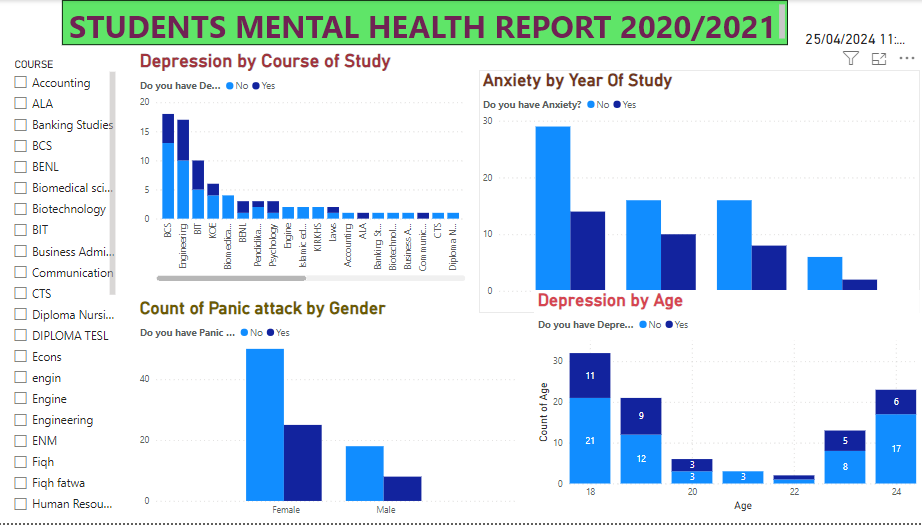

The page's visual inventory and layout, read from the dashboard file:
{"tool":"powerbi","page":{"name":"Duplicate of Page 1","canvas":[1280,720],"ordinal":1},"visuals":[{"type":"textbox","box":[89,0,999.5,62.2],"z":0},{"type":"columnChart","title":"Depression by Course  of Study","fields":{"Category":["Student Mental health.What is your course?"],"Y":["CountNonNull(Student Mental health.Do you have Depression?)"],"Series":["Student Mental health.Do you have Depression?"]},"box":[191.3,68.8,458.3,323.4],"z":1000},{"type":"clusteredColumnChart","title":"Count of Panic attack by Gender","fields":{"Category":["Student Mental health.Choose your gender"],"Y":["CountNonNull(Student Mental health.Do you have Panic attack?)"],"Series":["Student Mental health.Do you have Panic attack?"]},"box":[191.3,410.2,527.1,309.7],"z":2000},{"type":"clusteredColumnChart","title":"Anxiety by Year Of Study","fields":{"Category":["Student Mental health.Your current year of Study"],"Series":["Student Mental health.Do you have Anxiety?"],"Y":["CountNonNull(Student Mental health.Do you have Anxiety?)"]},"box":[663.4,96.3,607,334.5],"z":3000},{"type":"columnChart","title":"Depression by Age","fields":{"Category":["Student Mental health.Age"],"Y":["CountNonNull(Student Mental health.Age)"],"Series":["Student Mental health.Do you have Depression?"]},"box":[739.1,399.1,531.3,309.7],"z":4000},{"type":"slicer","fields":{"Values":["Student Mental health.What is your course?"]},"box":[11,75.7,156.9,633.1],"z":5000},{"type":"card","fields":{"Values":["Min(Refreshed Date.Column1)"]},"box":[1102.5,38.5,156.9,30.3],"z":5001}]}

Visuals, with their boxes on the page's 1280x720 design canvas (x1, y1, x2, y2). These are canvas units, not pixel positions in the 922x530 screenshot, which may show the page scaled, cropped or inside an application window:
textbox: 89/0/1088/62
"Depression by Course  of Study" columnChart: 191/69/650/392
"Count of Panic attack by Gender" clusteredColumnChart: 191/410/718/720
"Anxiety by Year Of Study" clusteredColumnChart: 663/96/1270/431
"Depression by Age" columnChart: 739/399/1270/709
slicer - Student Mental health.What is your course?: 11/76/168/709
card - Min(Refreshed Date.Column1): 1102/38/1259/69
